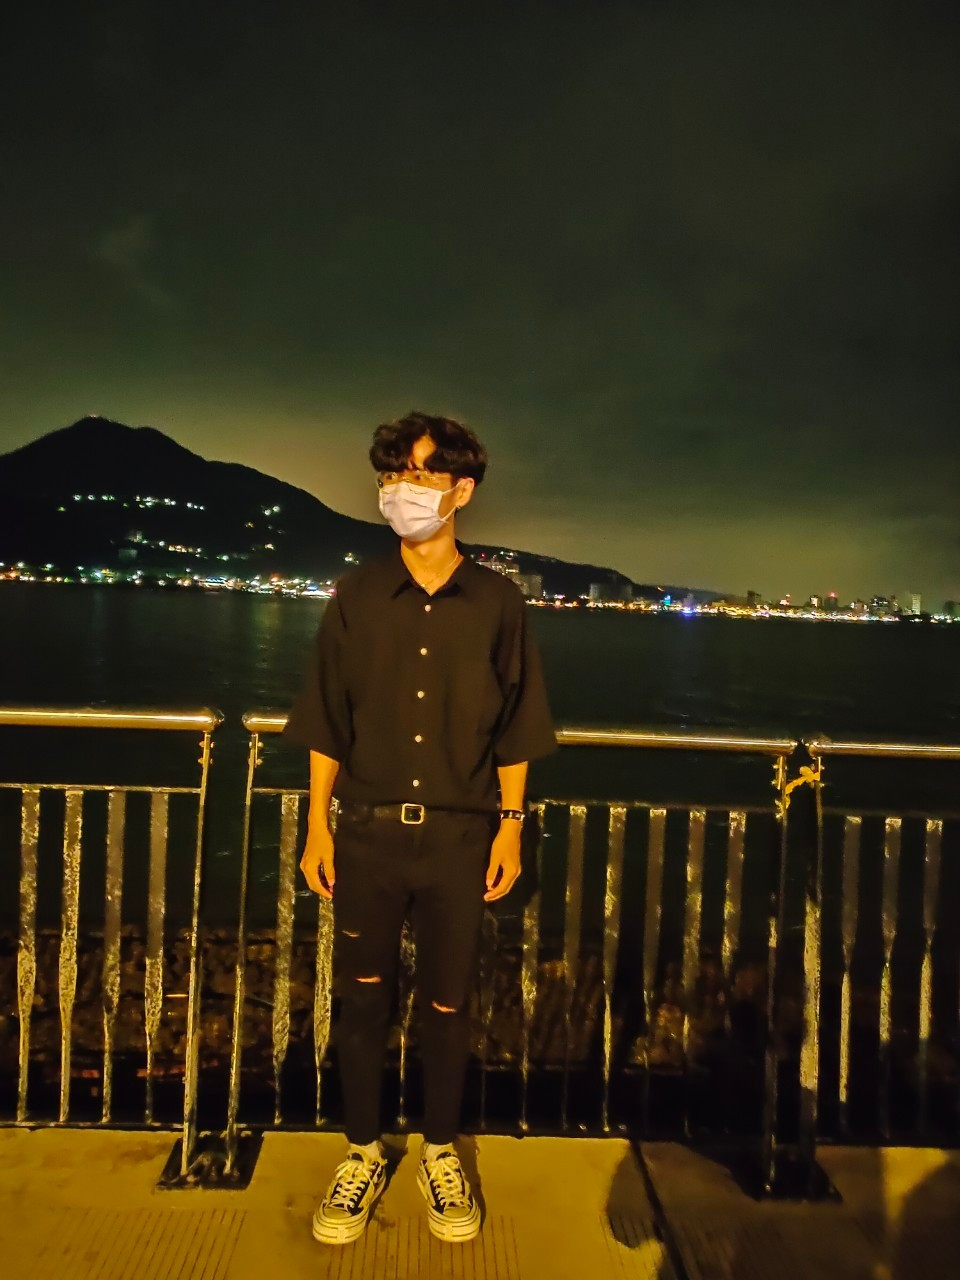people: (285, 408, 523, 1255)
